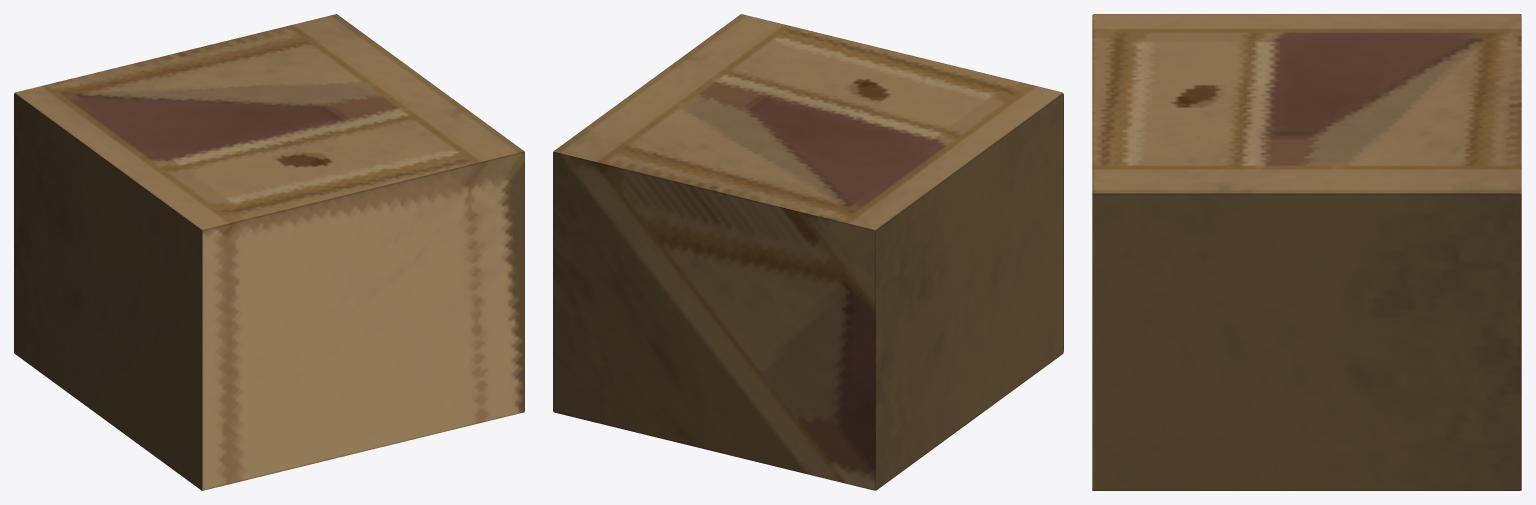
Rendered from pz_house_drawers_bedroom.obj.
3 renders of one model, left to right at view 1: azimuth 30°, elevation 25°; view 2: azimuth 150°, elevation 25°; view 3: azimuth 270°, elevation 25°, orthographic. The views are drawn at different scales.
Visible parts, largest first — view 1: pz_house_drawers_bedroom_|_1_corpo_gavetas; view 2: pz_house_drawers_bedroom_|_1_corpo_gavetas; view 3: pz_house_drawers_bedroom_|_1_corpo_gavetas.
Part boxes in pixels (x1,y1,x2,y2): pz_house_drawers_bedroom_|_1_corpo_gavetas: (14,14,524,490); pz_house_drawers_bedroom_|_1_corpo_gavetas: (553,14,1063,490); pz_house_drawers_bedroom_|_1_corpo_gavetas: (1092,14,1521,490).
Bounding box in the file's own units: 0.862 × 0.6652 × 0.87.
Materials: 1 (1 with a texture image).
